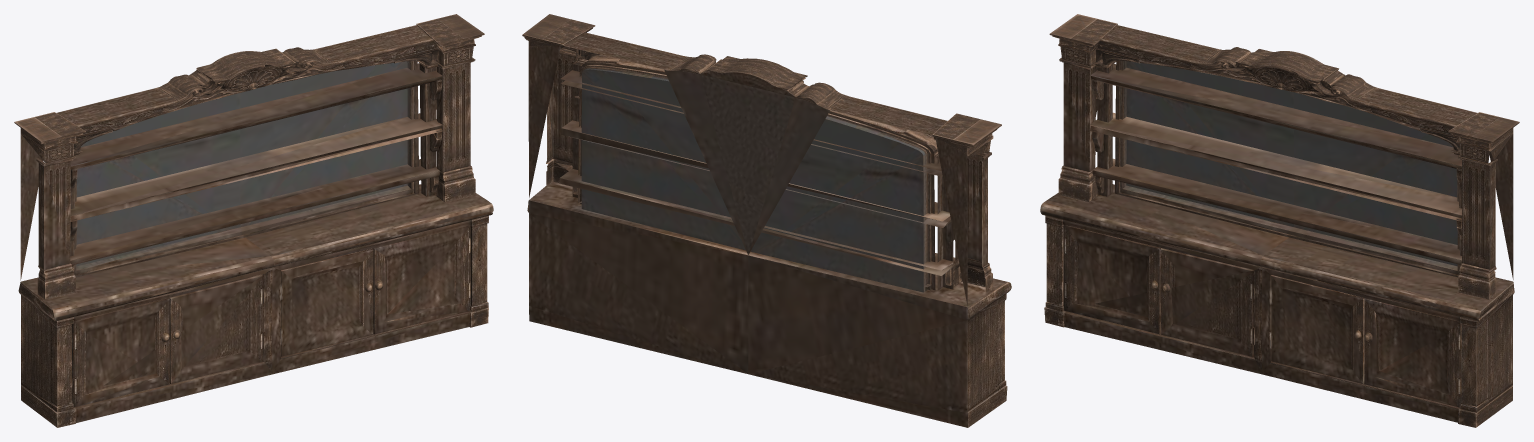
The model's file is back-bar.glb.
3 views of the same model, side by side, from view 1: azimuth 30°, elevation 25°; view 2: azimuth 150°, elevation 25°; view 3: azimuth 330°, elevation 25° (orthographic). The views are drawn at different scales.
Visible parts, largest first — view 1: GLTF; view 2: GLTF; view 3: GLTF.
Boxes of the visible parts, left/top/right/bottom form: GLTF: left=14, top=14, right=493, bottom=427; GLTF: left=522, top=14, right=1011, bottom=427; GLTF: left=1040, top=14, right=1519, bottom=427.
Bounding box in the file's own units: 4 × 2.55 × 0.605.
1 material, 1 textured.
